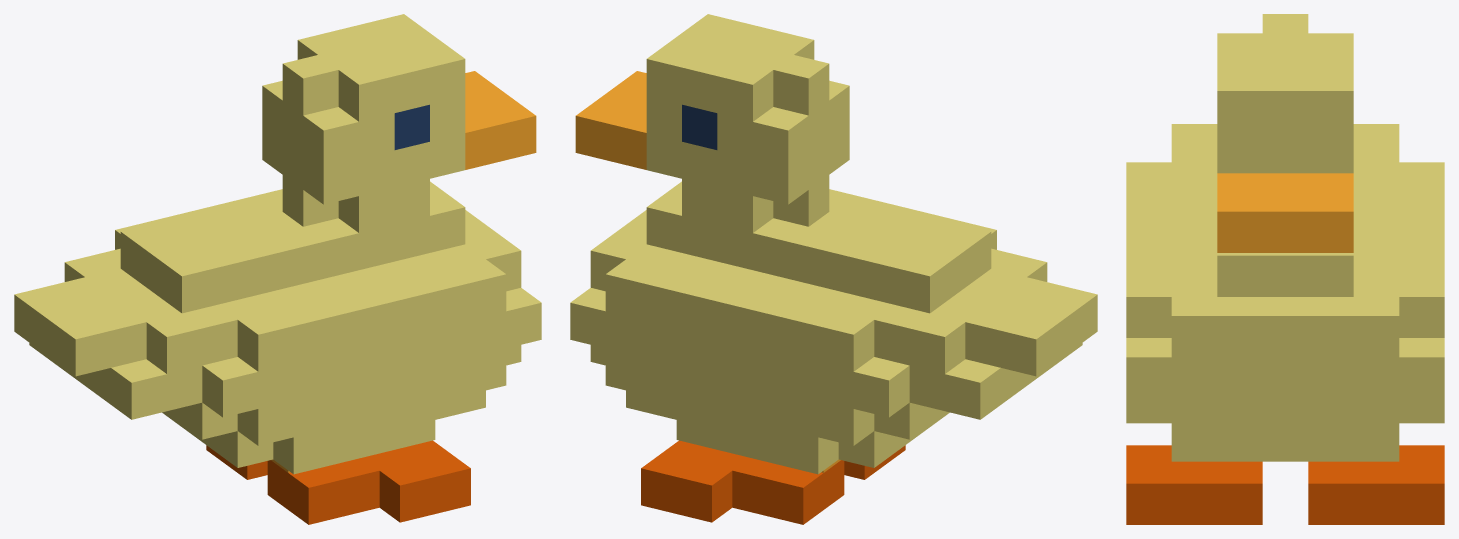
Rendered from Duck3.fbx.
3 renders of one model, left to right at view 1: azimuth 30°, elevation 25°; view 2: azimuth 150°, elevation 25°; view 3: azimuth 270°, elevation 25°, orthographic. The views are drawn at different scales.
Visible parts, largest first — view 1: Duck.001; view 2: Duck.001; view 3: Duck.001.
Boxes of the visible parts, x1,y1,x2,y2 form: Duck.001: (14,14,541,524); Duck.001: (570,14,1097,524); Duck.001: (1126,14,1444,524).
Bounding box in the file's own units: 1300 × 1100 × 700.
